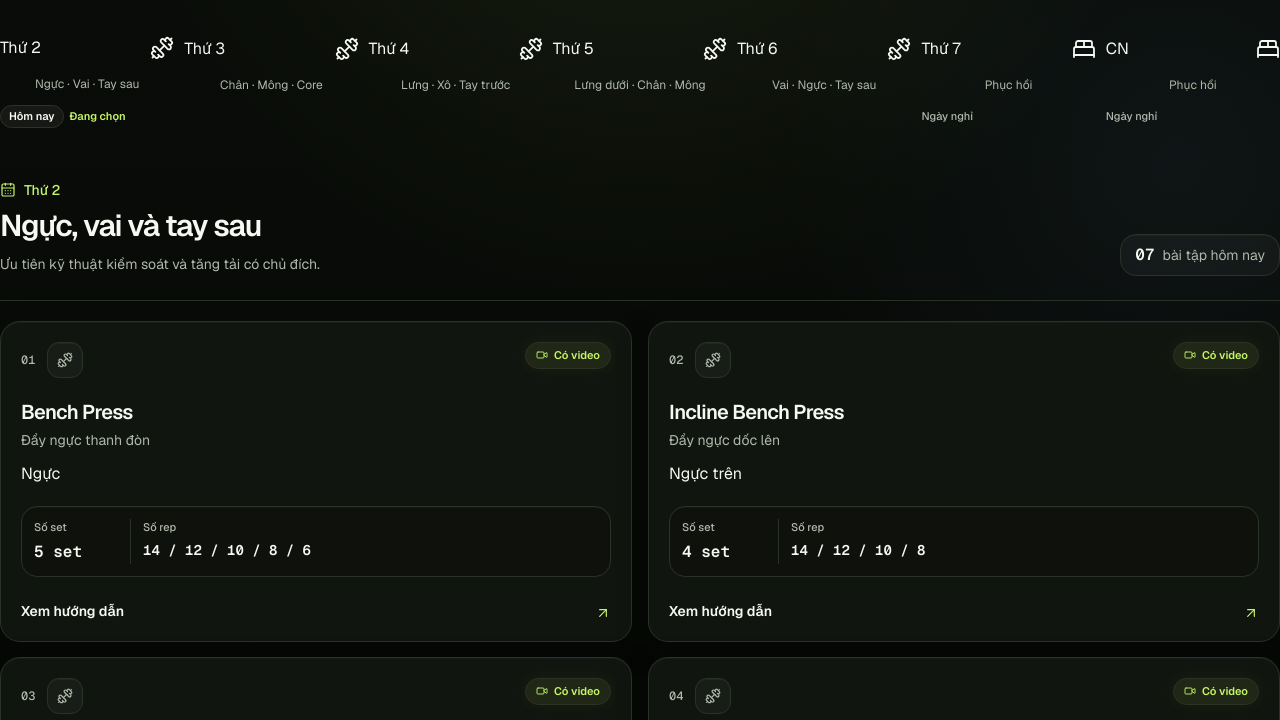
Test: WorkoutPlanner › does not render the exercise grid on a rest day
This screenshot has width=1280, height=720.
Check: the element named "Chọn ngày tập luyện" is shown, box [0,36,1279,136]
What coordinates should you click on to do the following:
click the tab "Thứ 7 Phục hồi Ngày nghỉ"
I would click on:
 (1009, 82)
Its box is [921,36,1096,128].
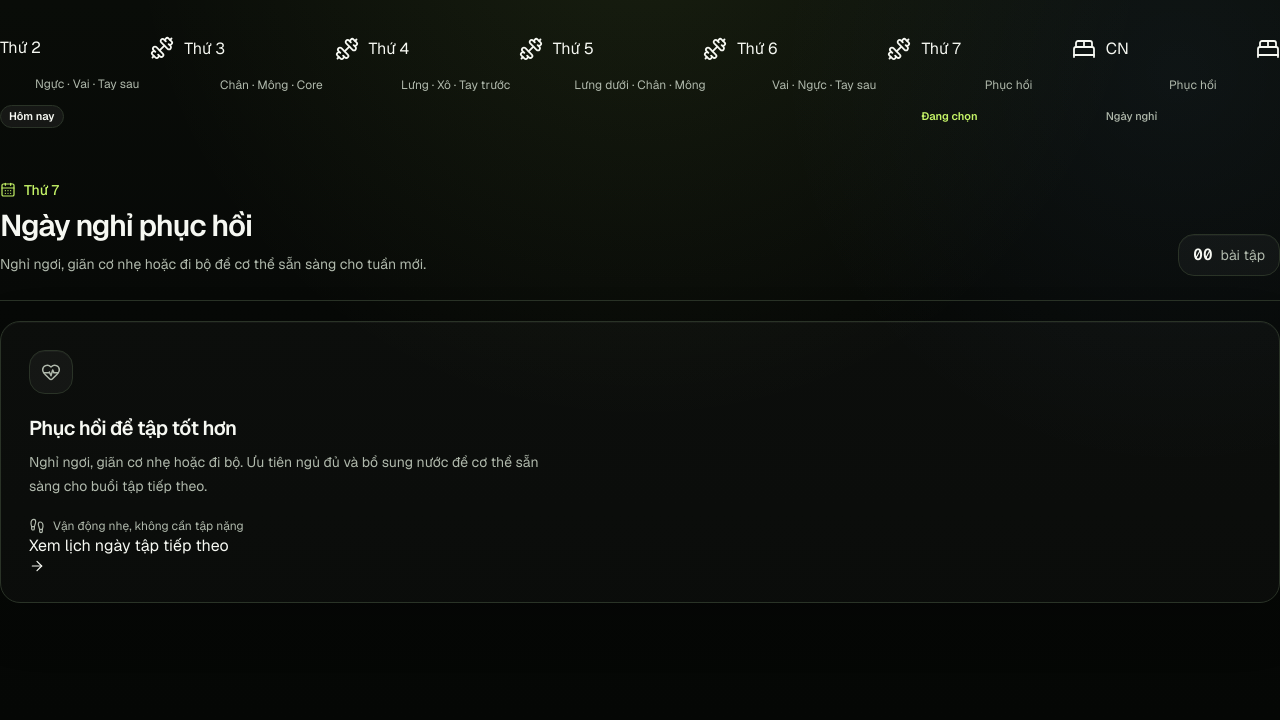
Check: the heading "Ngày nghỉ phục hồi" is shown, box [0,206,252,245]
